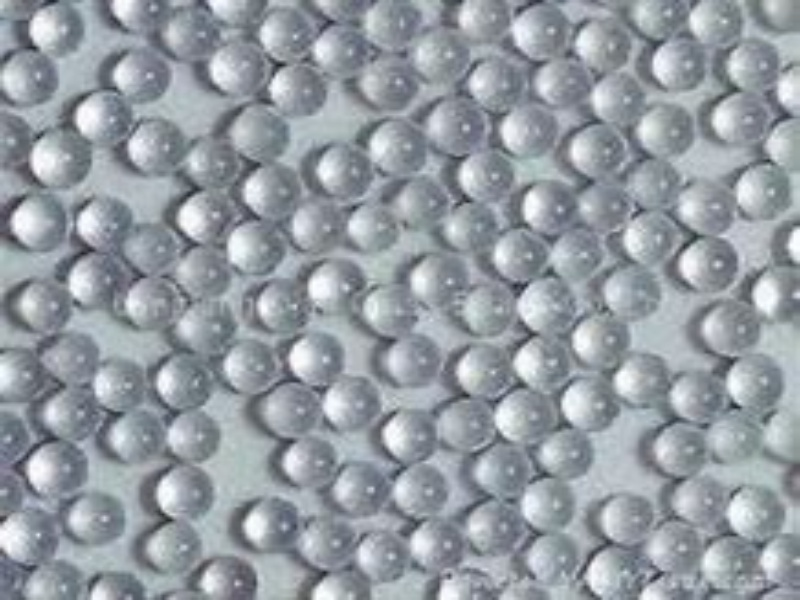bead: (513, 274, 588, 338), (172, 189, 248, 251), (253, 381, 326, 443), (122, 113, 191, 178), (641, 517, 711, 581), (22, 442, 94, 504), (422, 94, 491, 158), (64, 248, 133, 312), (34, 382, 106, 443), (227, 102, 294, 167), (465, 497, 533, 561), (671, 175, 740, 238), (206, 40, 276, 102), (567, 311, 637, 373), (581, 544, 658, 600), (725, 481, 790, 547), (169, 294, 240, 354), (560, 123, 637, 178), (306, 255, 372, 319), (452, 340, 521, 401), (709, 92, 779, 152), (510, 333, 581, 392), (242, 494, 306, 559), (496, 383, 561, 447), (457, 277, 523, 340), (699, 298, 765, 361), (310, 21, 377, 83), (730, 159, 798, 220), (600, 262, 668, 323), (669, 474, 737, 535), (153, 465, 222, 525), (367, 116, 430, 181), (650, 417, 713, 482), (114, 221, 187, 277), (99, 409, 172, 465), (507, 4, 576, 63), (217, 339, 287, 397), (707, 408, 771, 471), (610, 350, 675, 412), (472, 440, 537, 502), (444, 201, 517, 256), (550, 231, 618, 290), (725, 351, 787, 415), (160, 4, 225, 65), (668, 367, 733, 428), (311, 142, 377, 202), (404, 252, 471, 311), (619, 209, 687, 267), (9, 193, 73, 254), (633, 100, 699, 159), (673, 235, 745, 289), (330, 459, 392, 521), (530, 56, 595, 115), (515, 179, 586, 233), (464, 56, 531, 113), (257, 4, 318, 66), (359, 51, 421, 112), (67, 489, 129, 550), (492, 223, 553, 285), (519, 474, 581, 535), (360, 1, 437, 50), (76, 193, 141, 251), (110, 47, 176, 104), (161, 408, 227, 465), (381, 333, 444, 392), (357, 281, 422, 338), (407, 516, 472, 573), (3, 508, 63, 569), (254, 278, 318, 335), (410, 25, 475, 81), (141, 519, 206, 575), (180, 135, 246, 190), (241, 165, 307, 220), (276, 435, 342, 490), (561, 371, 621, 431), (322, 374, 384, 432), (577, 179, 640, 236), (154, 351, 217, 408), (226, 223, 290, 279), (534, 424, 599, 479), (31, 128, 92, 186), (300, 515, 361, 573), (73, 88, 136, 144), (496, 105, 561, 159), (595, 492, 660, 546), (573, 16, 633, 74), (438, 394, 498, 452), (684, 1, 748, 55), (14, 277, 72, 336), (288, 196, 349, 252), (586, 73, 648, 128), (390, 178, 452, 233), (94, 355, 152, 413), (127, 277, 187, 333), (288, 333, 349, 388), (752, 262, 800, 331), (269, 63, 327, 120), (346, 202, 404, 259), (725, 38, 784, 94), (629, 156, 688, 212), (381, 409, 440, 465), (646, 38, 707, 92), (41, 331, 102, 385), (352, 532, 414, 585), (456, 152, 519, 204), (527, 531, 586, 586), (392, 465, 452, 519), (177, 244, 233, 301), (27, 1, 84, 56), (1, 48, 57, 102), (196, 554, 259, 600), (452, 1, 518, 44), (1, 345, 46, 408), (629, 1, 691, 42)
